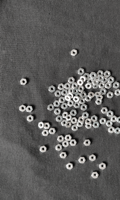nut: (56, 144, 63, 152), (27, 115, 34, 123), (78, 68, 85, 76), (92, 172, 99, 179), (100, 163, 107, 170), (67, 163, 74, 170), (60, 152, 67, 159), (40, 146, 47, 153), (70, 140, 77, 147), (84, 140, 91, 147), (65, 135, 72, 142), (58, 136, 65, 143), (49, 128, 56, 135), (42, 130, 49, 137), (44, 123, 51, 130), (38, 122, 45, 129), (26, 106, 33, 113), (100, 118, 107, 125), (93, 122, 100, 129), (111, 116, 118, 123), (91, 116, 98, 123), (85, 119, 92, 126), (72, 125, 79, 132), (78, 117, 85, 124), (82, 112, 89, 119), (71, 118, 78, 125), (61, 120, 68, 127), (56, 116, 63, 123), (66, 115, 73, 122), (70, 110, 77, 117), (48, 104, 55, 111), (81, 104, 88, 111), (74, 102, 81, 109), (59, 97, 66, 104), (107, 92, 114, 99), (65, 95, 72, 102), (49, 86, 56, 93), (58, 84, 65, 91), (77, 79, 84, 86), (80, 76, 87, 83), (86, 83, 93, 90), (108, 77, 115, 84), (98, 75, 105, 82), (104, 71, 111, 78), (71, 50, 78, 57), (54, 109, 62, 115), (96, 95, 104, 101), (100, 89, 108, 95), (90, 155, 96, 162), (79, 158, 86, 164), (63, 141, 69, 148), (20, 105, 26, 112), (20, 79, 27, 85), (109, 127, 115, 134), (106, 121, 113, 127), (86, 124, 93, 130), (108, 111, 114, 118), (102, 108, 109, 114), (77, 122, 84, 128), (66, 122, 72, 129), (63, 112, 69, 119), (68, 100, 74, 107), (62, 103, 68, 110), (54, 101, 61, 107), (80, 98, 86, 105), (89, 92, 95, 99), (73, 96, 80, 102), (80, 92, 87, 98), (55, 91, 62, 97), (73, 88, 79, 95), (69, 88, 75, 95), (65, 83, 71, 90), (78, 86, 85, 92), (69, 77, 75, 84), (99, 83, 106, 89), (105, 83, 112, 89), (114, 82, 120, 89), (93, 80, 100, 86), (84, 73, 90, 80), (91, 73, 98, 79), (86, 96, 92, 102), (68, 93, 74, 99), (76, 93, 82, 99), (62, 90, 68, 96), (72, 83, 78, 89), (93, 83, 99, 89), (88, 79, 94, 85), (95, 77, 101, 83), (102, 77, 108, 83), (98, 71, 104, 77), (115, 128, 120, 135), (96, 100, 103, 105), (95, 92, 102, 97), (115, 89, 120, 96), (117, 117, 120, 124)
